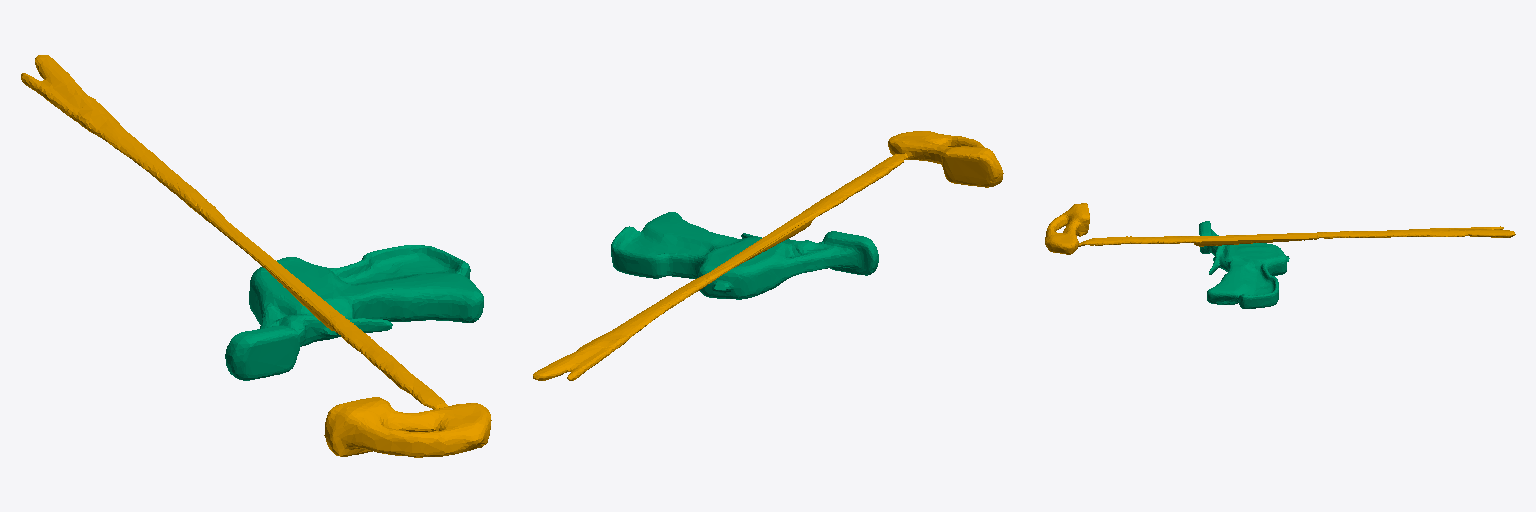
URDF robot description (clamp):
<?xml version="1.0"?>
<robot name="clamp">
  <link name ="rb0">
    <visual>
      <origin xyz='-0.072995 -0.379894 -0.055280' rpy='-0.272061 -0.208156 2.788240'/>
      <geometry>
        <mesh filename="package://articulated_objects_db/data/objects/clamp/meshes/clamp_base.obj"  scale="1 1 1" />
      </geometry>
    </visual>
  </link>
  <joint name="j_0_1" type="prismatic">
    <parent link="rb0"/>
    <child link="rb1"/>
    <origin xyz="0.0840625863598 -0.178481242992 -0.00813120561192" rpy="0 0 0 "/>
    <axis xyz="0.0215877778934 0.999607233913 0.0178702477485"/>
    <limit effort="30" velocity="1.0" lower="-3.1416" upper="3.1416"/>
  </joint>
  <joint name="j_0_fixed" type="fixed">
    <parent link="rb1"/>
    <child link="rb1_marker"/>
      <origin xyz="0.0 0.0 0.0" rpy="-3.12337982126 0.0211650806641 -2.13353635405"/>
    <limit effort="30" velocity="1.0" lower="-3.1416" upper="3.1416"/>
  </joint>
  <link name ="rb1">
  </link>
  <link name ="rb1_marker">
    <visual>
      <origin xyz='0.088498 0.012487 0.021321' rpy='2.843021 0.206721 1.459733'/>
      <geometry>
        <mesh filename="package://articulated_objects_db/data/objects/clamp/meshes/clamp_handle.obj"  scale="1 1 1" />
      </geometry>
    </visual>
  </link>
</robot>

--- Render facts (derived) ---
3 views of the same robot in one strip: view 1: azimuth 30°, elevation 25°; view 2: azimuth 150°, elevation 25°; view 3: azimuth 270°, elevation 25° (orthographic).
Robot: clamp — 3 links, 2 joints (1 prismatic, 1 fixed); root link rb0; default pose: every joint at zero.
Links seen in each view (by area): view 1: rb0, rb1_marker; view 2: rb1_marker, rb0; view 3: rb0, rb1_marker.
Link boxes in pixels (x1,y1,x2,y2): rb0: (21,55,491,457); rb1_marker: (225,245,483,380); rb1_marker: (611,212,878,299); rb0: (533,131,1003,380); rb0: (1045,203,1515,254); rb1_marker: (1199,221,1289,308).
Size in the robot's own frame: 0.1907 by 0.5053 by 0.0474 metres.
Meshes: 2 distinct files referenced, 2 mesh visuals loaded (2 OBJ).